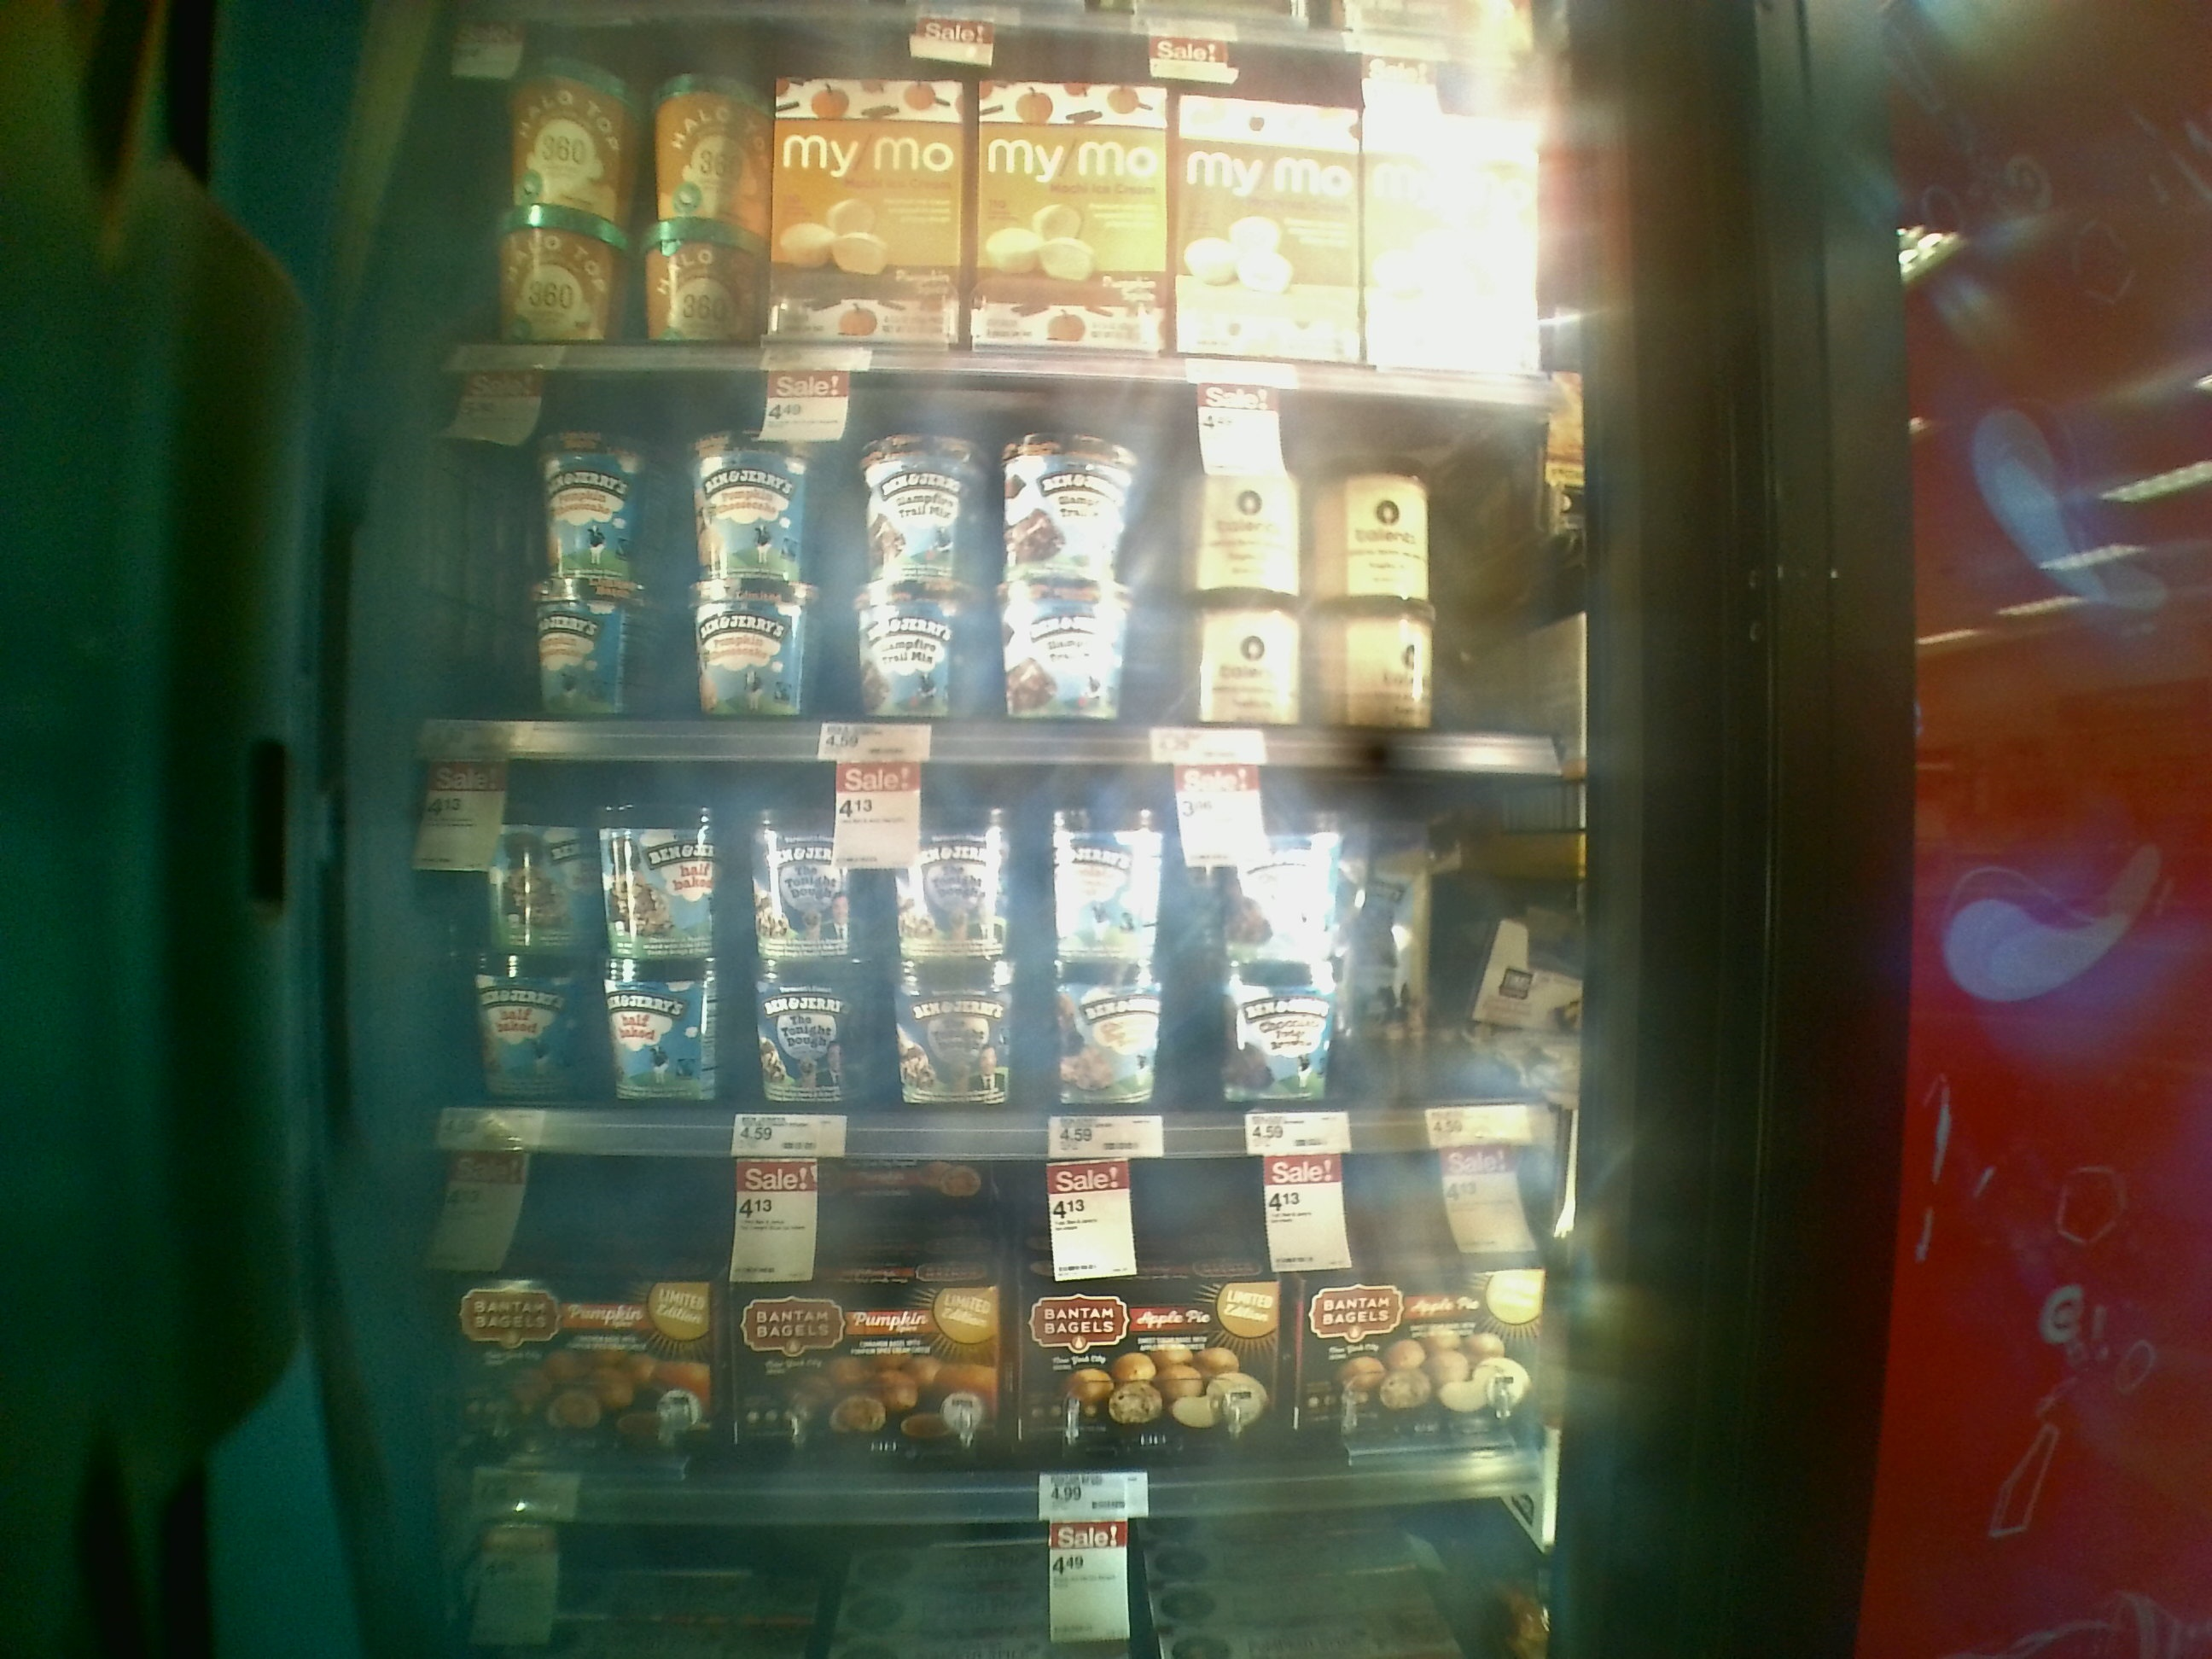shelf: (392, 741, 1578, 1154), (420, 368, 1581, 775), (364, 1133, 1550, 1518)
